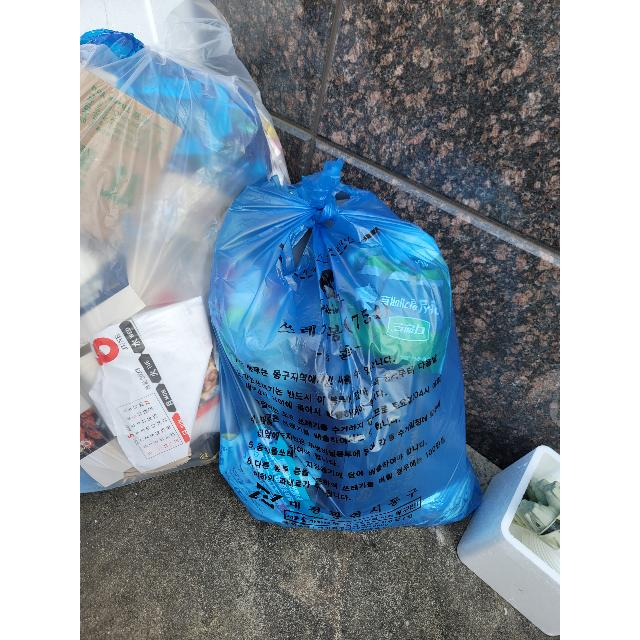other_trashbag: (210, 160, 481, 530), (80, 29, 144, 59)
